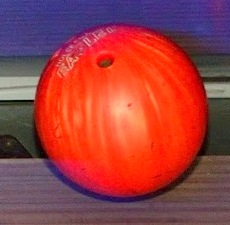ball: (34, 22, 207, 198)
